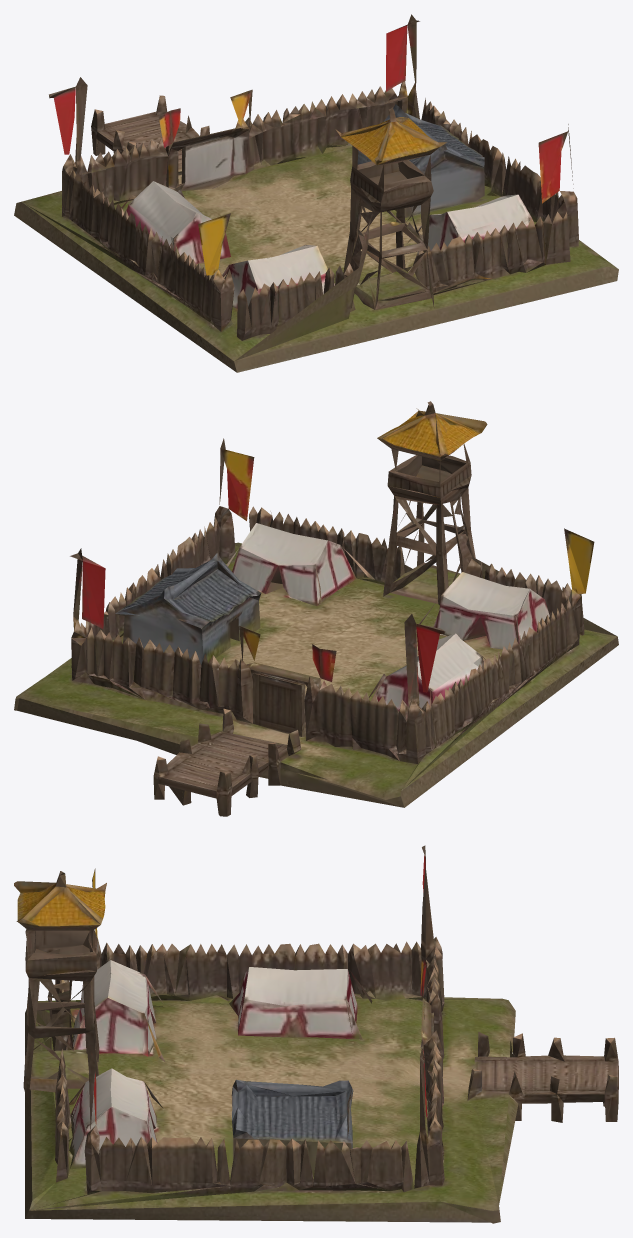
Rendered from camp_ming_1.glb.
3 renders of one model, top to bottom at view 1: azimuth 30°, elevation 25°; view 2: azimuth 150°, elevation 25°; view 3: azimuth 270°, elevation 25°, orthographic. The views are drawn at different scales.
Parts seen in each view (by area): view 1: camp_ming_1; view 2: camp_ming_1; view 3: camp_ming_1.
Part boxes in pixels (<box>): camp_ming_1: <box>14,14,618,372</box>; camp_ming_1: <box>14,401,618,816</box>; camp_ming_1: <box>14,845,618,1223</box>.
Bounding box in the file's own units: 0.8331 × 0.4383 × 1.
Materials: 1 (1 with a texture image).
